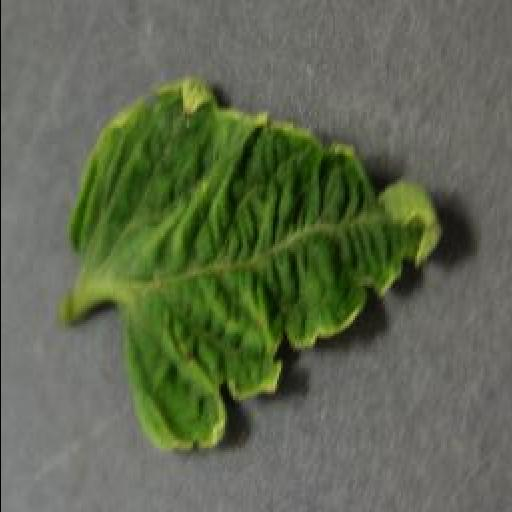disease_tomato: (70, 78, 442, 456)
